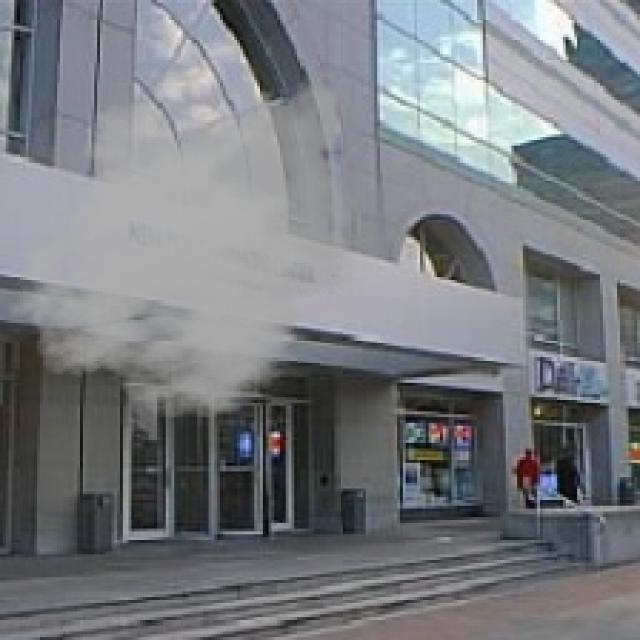smoke: (6, 66, 363, 420)
